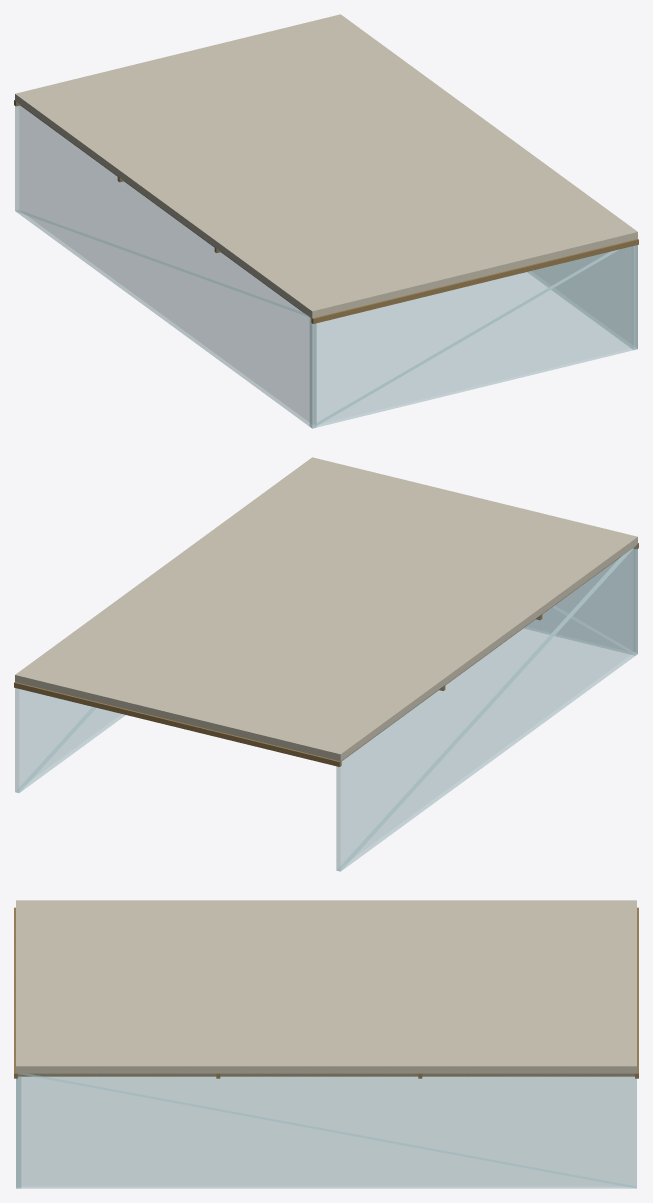
File: G7_Completion_R009_G7C3_Aft_Closure.glb
The picture shows the model from 3 angles, top to bottom: view 1: azimuth 30°, elevation 25°; view 2: azimuth 150°, elevation 25°; view 3: azimuth 270°, elevation 25°; orthographic projection. The views are drawn at different scales.
Visible parts, largest first — view 1: G7C3_Aft_Closure_G7C3_shell_solid_roof, G7C3_Aft_Closure_G7C3_glass_solid_skin, G7C3_Aft_Closure_G7C3_metal_solid_frame; view 2: G7C3_Aft_Closure_G7C3_shell_solid_roof, G7C3_Aft_Closure_G7C3_glass_solid_skin, G7C3_Aft_Closure_G7C3_metal_solid_frame; view 3: G7C3_Aft_Closure_G7C3_shell_solid_roof, G7C3_Aft_Closure_G7C3_glass_solid_skin, G7C3_Aft_Closure_G7C3_metal_solid_frame.
Part boxes in pixels (x1,y1,x2,y2): G7C3_Aft_Closure_G7C3_shell_solid_roof: (15,14,637,318); G7C3_Aft_Closure_G7C3_glass_solid_skin: (15,102,637,428); G7C3_Aft_Closure_G7C3_metal_solid_frame: (14,100,638,323); G7C3_Aft_Closure_G7C3_shell_solid_roof: (15,457,637,761); G7C3_Aft_Closure_G7C3_glass_solid_skin: (15,545,637,871); G7C3_Aft_Closure_G7C3_metal_solid_frame: (14,543,638,766); G7C3_Aft_Closure_G7C3_shell_solid_roof: (16,900,636,1073); G7C3_Aft_Closure_G7C3_glass_solid_skin: (16,1073,636,1188); G7C3_Aft_Closure_G7C3_metal_solid_frame: (14,907,638,1078).
Bounding box in the file's own units: 13.6 × 4.68 × 21.64.
Materials: 4 (2 with a texture image).
